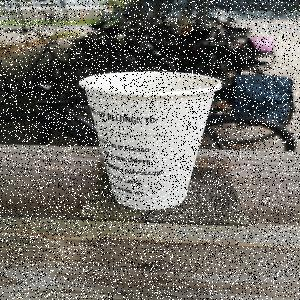Cup: (78, 72, 224, 213)
